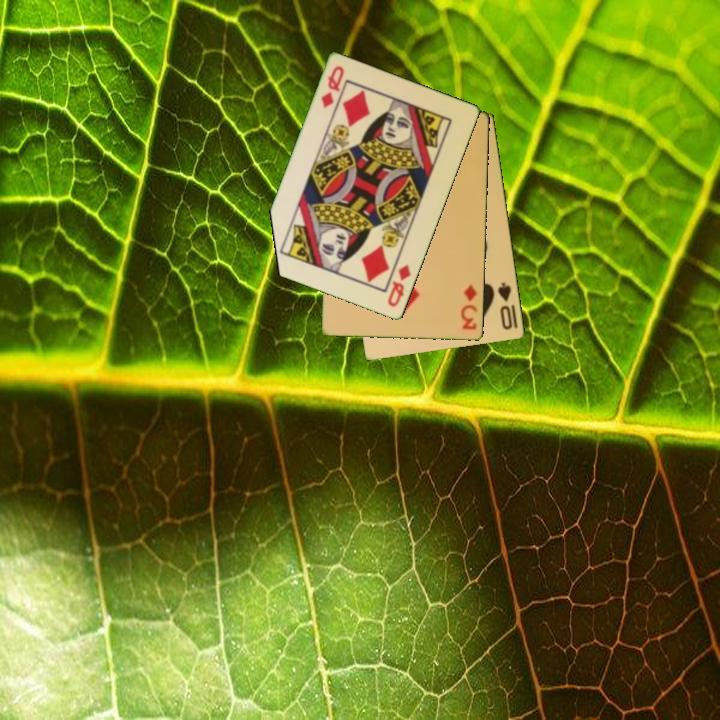10s: (494, 279, 516, 333)
3d: (458, 281, 481, 332)
Qd: (384, 261, 414, 310), (318, 62, 347, 111)
